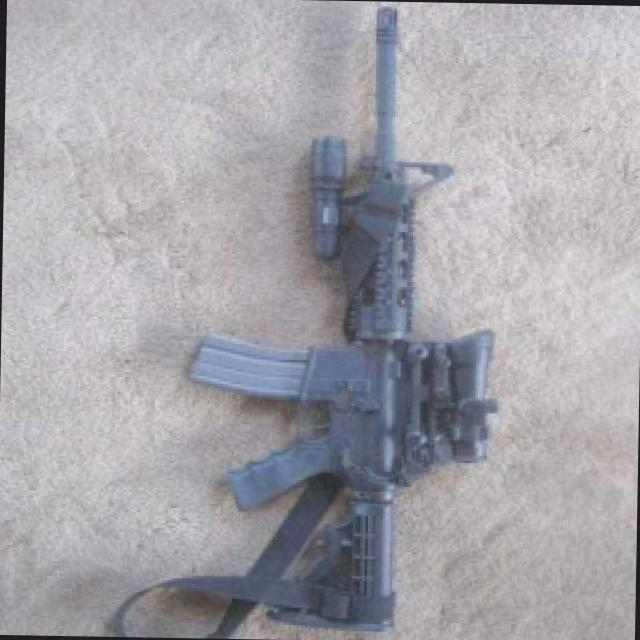long weapon: (204, 0, 484, 639)
